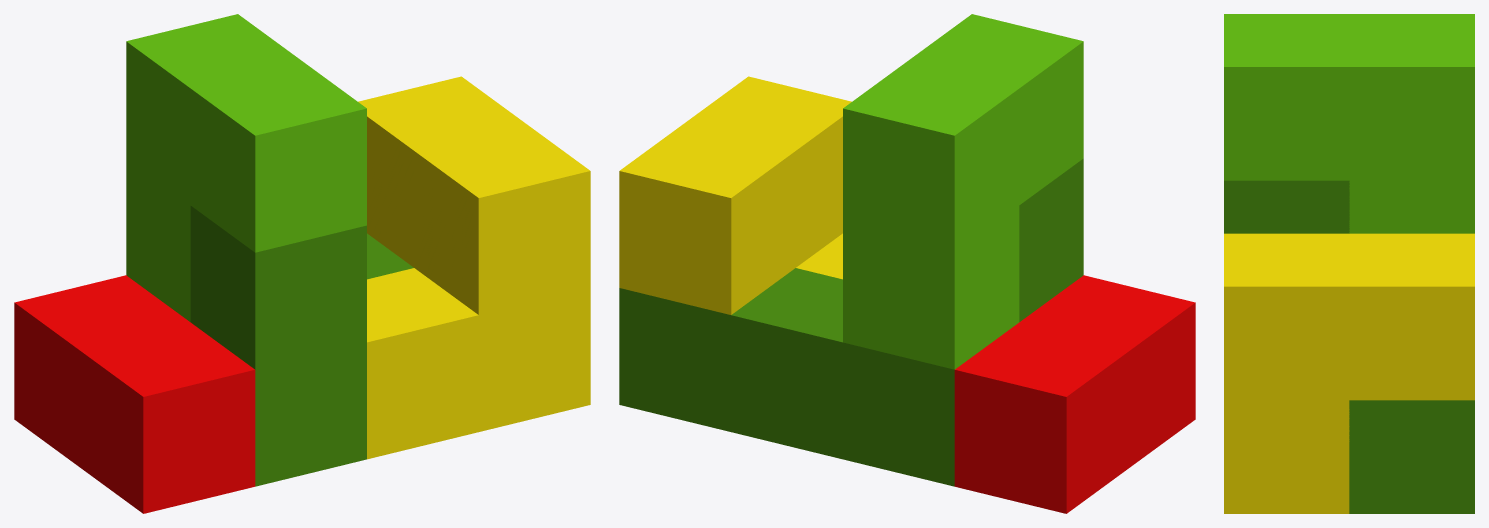
The picture shows the model from 3 angles, left to right: view 1: azimuth 30°, elevation 25°; view 2: azimuth 150°, elevation 25°; view 3: azimuth 270°, elevation 25°; orthographic projection. The views are drawn at different scales.
Parts seen in each view (by area): view 1: mergedBlocks(Clone); view 2: mergedBlocks(Clone); view 3: mergedBlocks(Clone).
Part boxes in pixels (bbox=[...]): mergedBlocks(Clone): bbox=[14, 14, 590, 513]; mergedBlocks(Clone): bbox=[619, 14, 1195, 513]; mergedBlocks(Clone): bbox=[1224, 14, 1474, 513].
Bounding box in the file's own units: 4 × 3 × 2.
4 materials, 4 textured.
